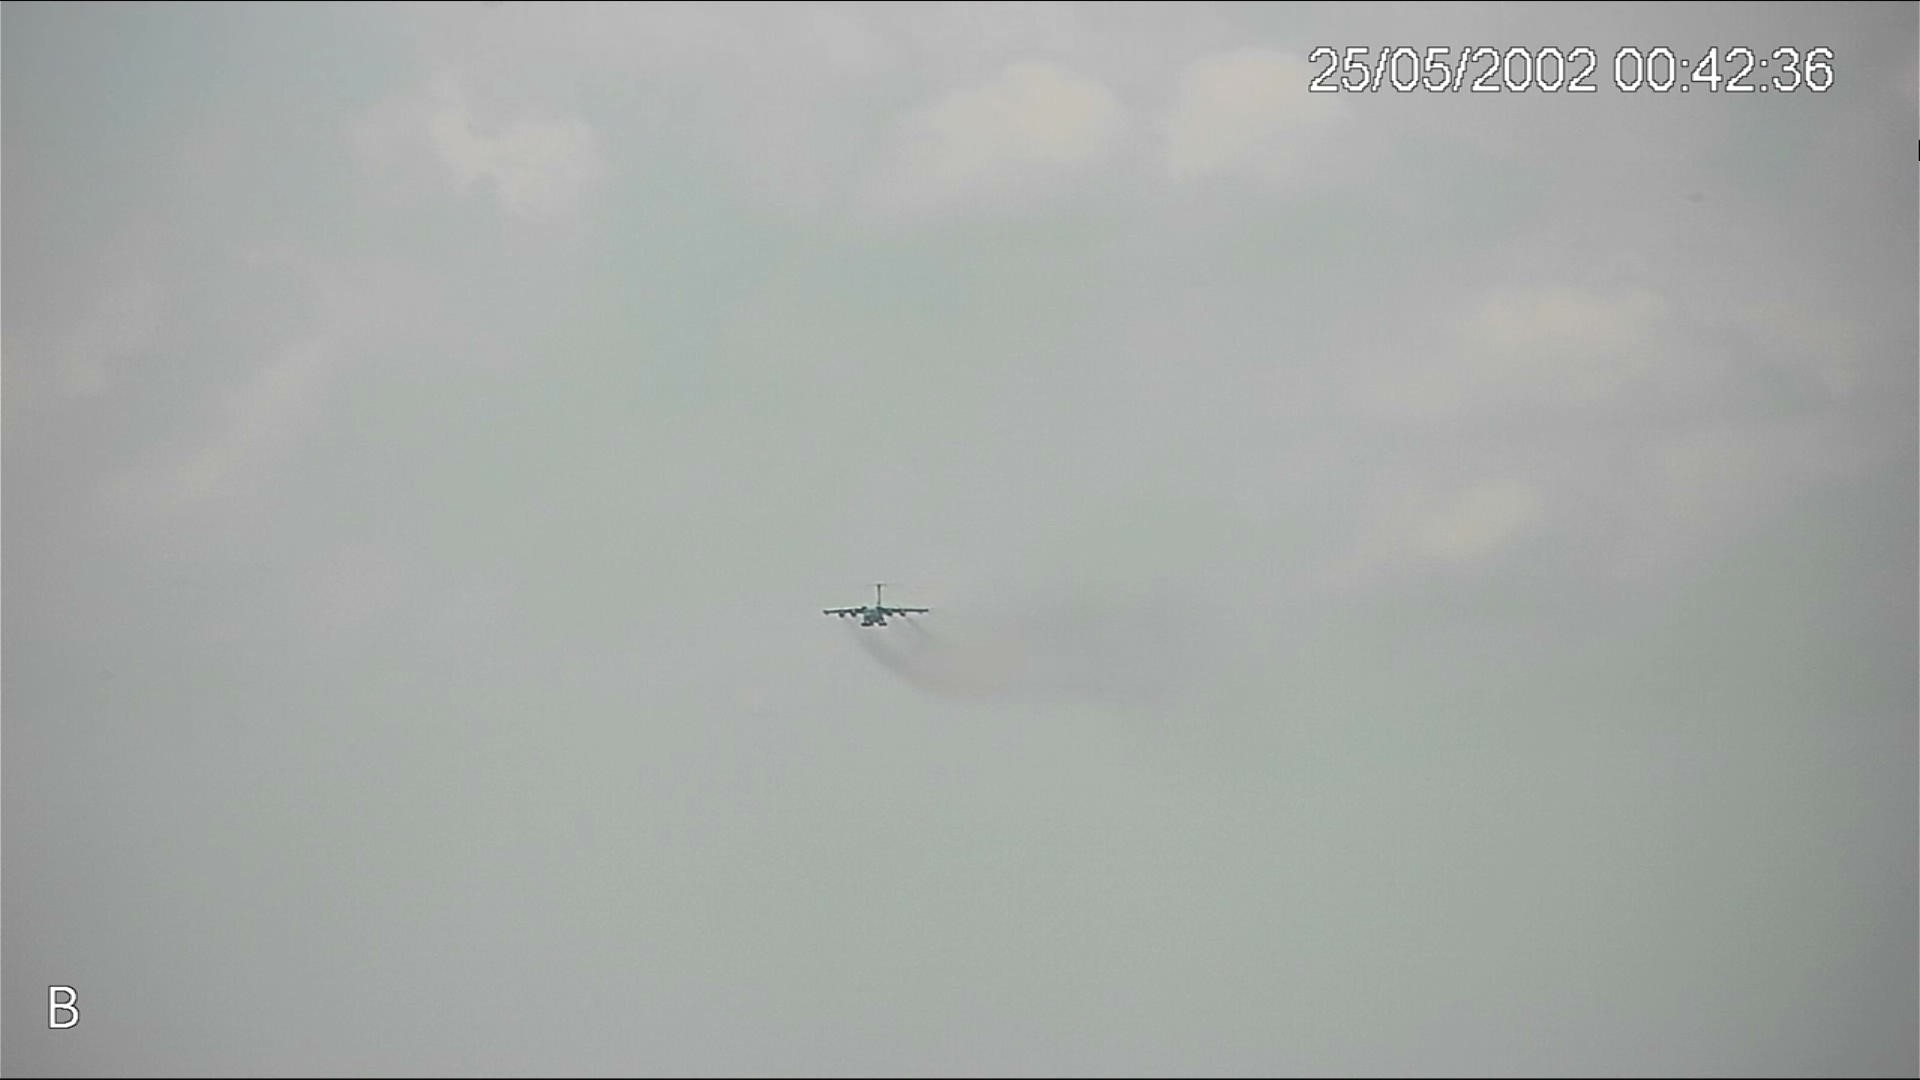SU_30: (822, 572, 932, 632)
